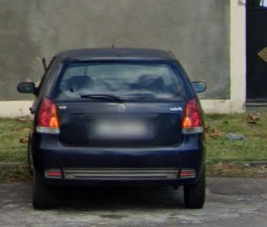car: (16, 48, 208, 210)
